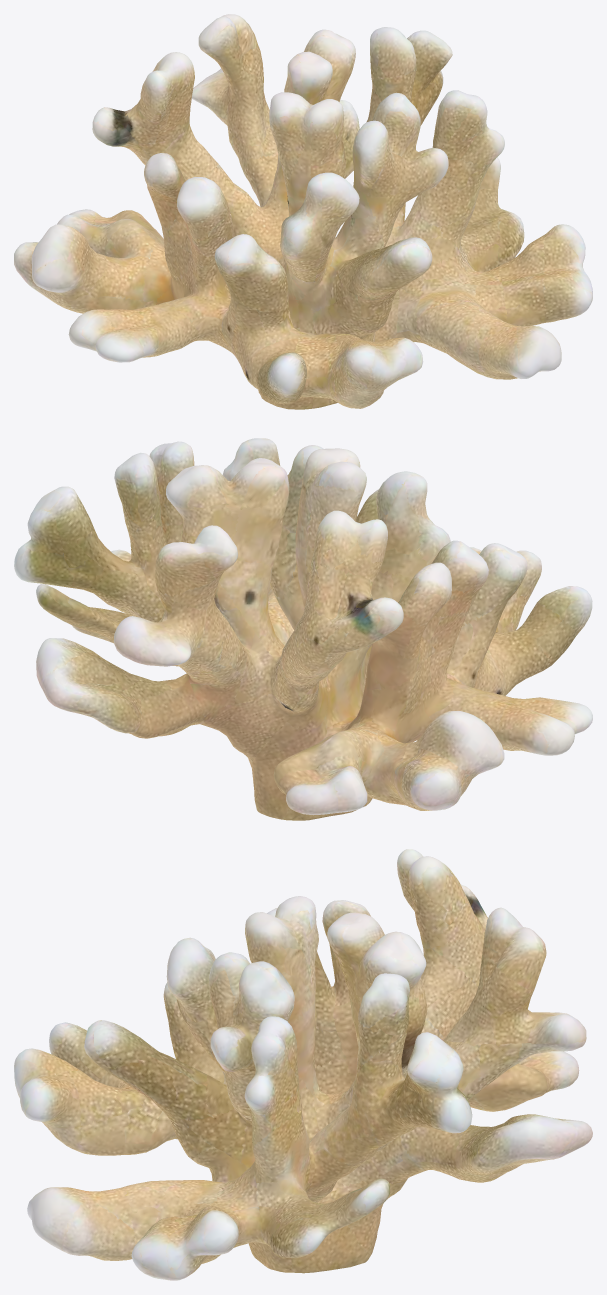
File: acropora.glb
3 renders of one model, top to bottom at view 1: azimuth 30°, elevation 25°; view 2: azimuth 150°, elevation 25°; view 3: azimuth 270°, elevation 25°, orthographic. The views are drawn at different scales.
Bounding box in the file's own units: 1.9 × 1.22 × 1.81.
Materials: 1 (1 with a texture image).
